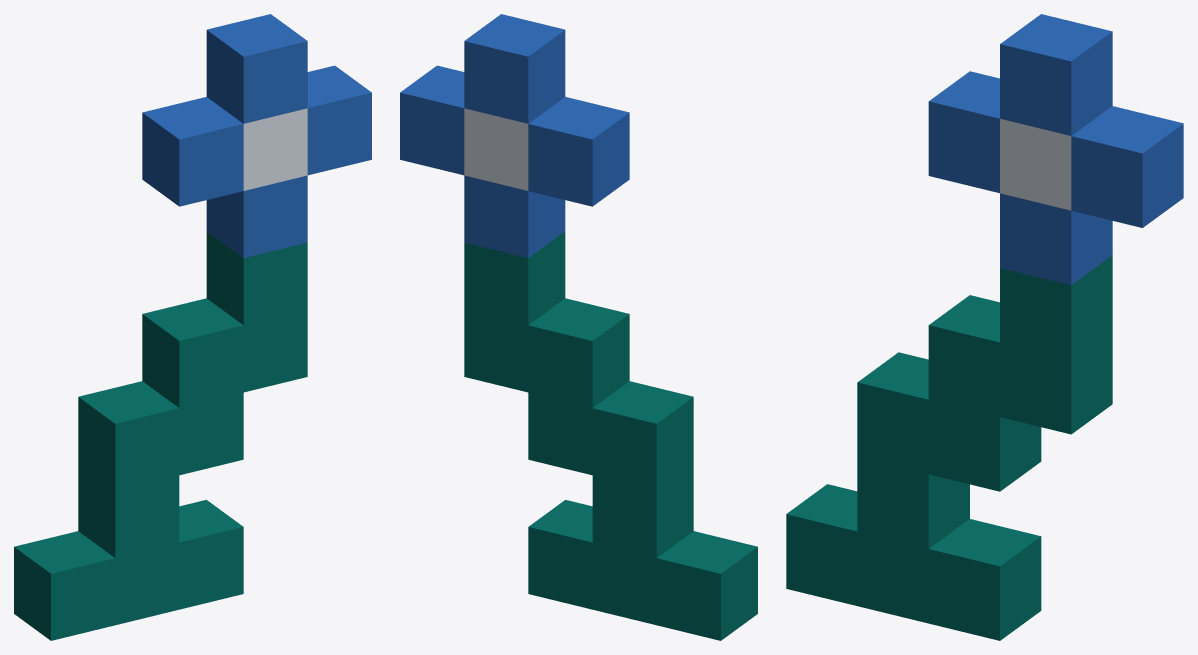
Rendered from flower-02.glb.
3 views of the same model, side by side, from view 1: azimuth 30°, elevation 25°; view 2: azimuth 150°, elevation 25°; view 3: azimuth 330°, elevation 25° (orthographic). The views are drawn at different scales.
Visible parts, largest first — view 1: generated(Clone); view 2: generated(Clone); view 3: generated(Clone).
Boxes of the visible parts, x1,y1,x2,y2 form: generated(Clone): (14,14,371,640); generated(Clone): (400,14,757,640); generated(Clone): (786,14,1183,640).
Bounding box in the file's own units: 5 × 8 × 1.
Materials: 1 (1 with a texture image).
